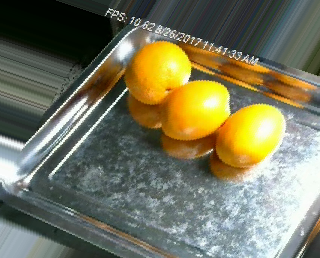Orange: (215, 103, 287, 168), (125, 40, 191, 105), (160, 80, 230, 140)
